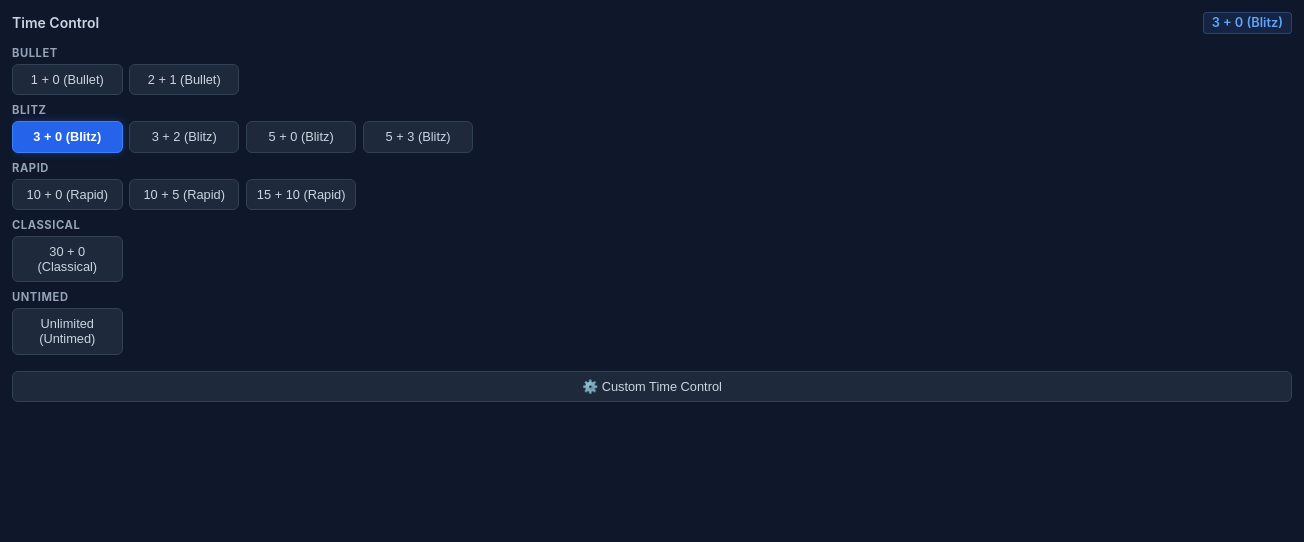
Test case: TimeControlSelector Component (TC-CLK-UI-09 to TC-CLK-UI-16) › TC-CLK-UI-14: displays validation error for negative numbers or invalid values
Click the radio button with test id "toggle-custom-time-control" at (652, 386), box [12,371,1292,402]
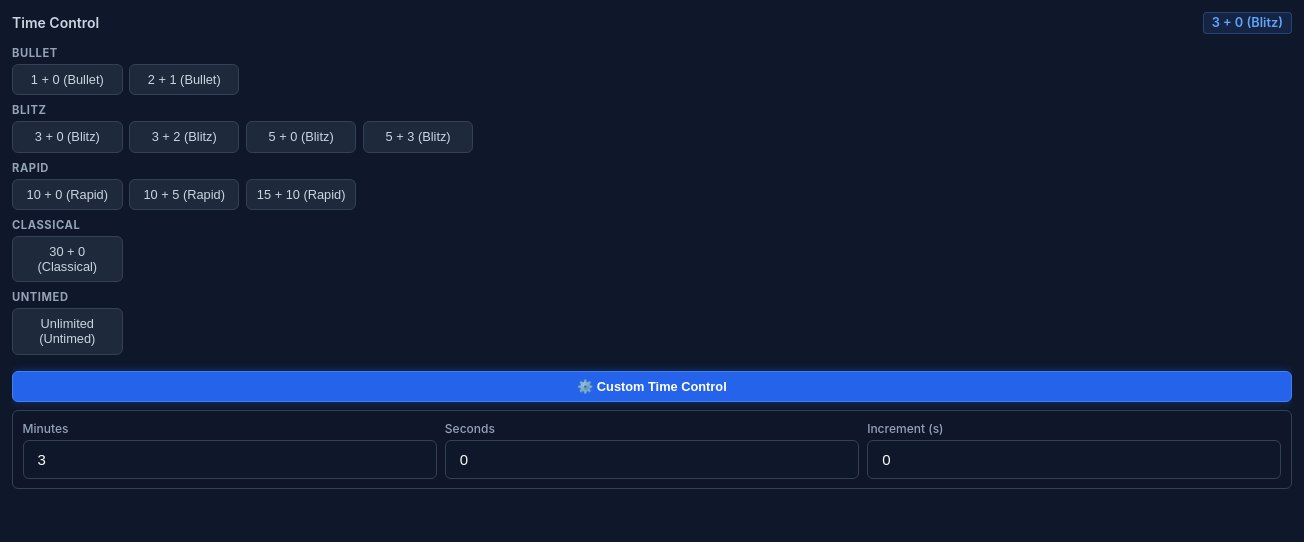
Replace the text in the number field with test id "input-custom-minutes" with "-5" at (230, 459), box [23,440,437,479]
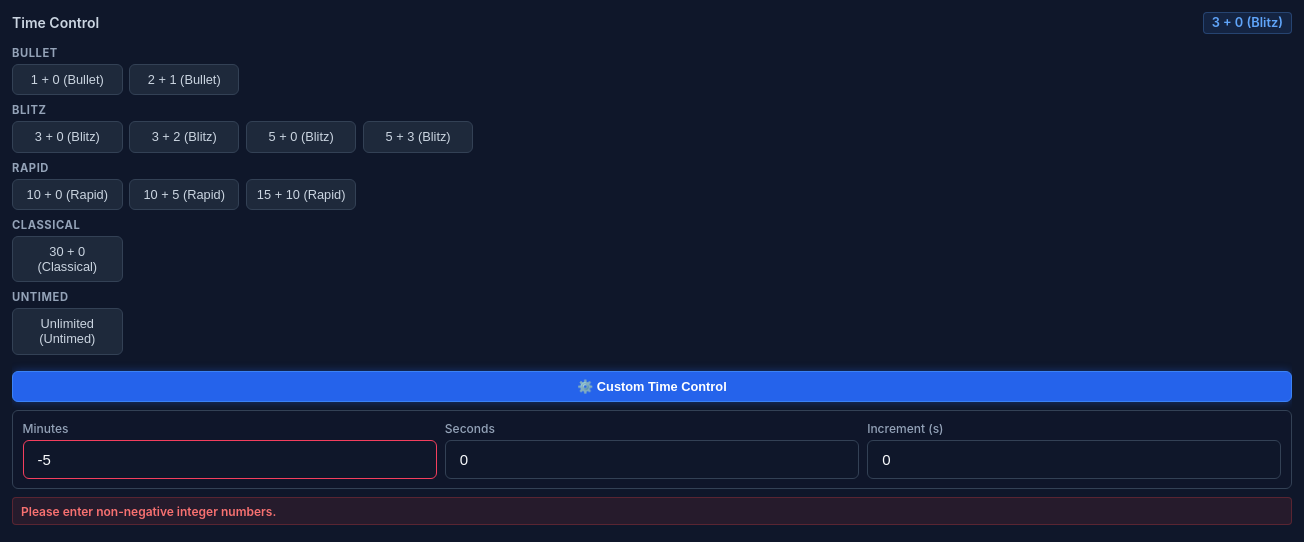
Result: the message with test id "custom-time-validation-error" reads "Please enter non-negative integer numbers." at [21,504,276,519]
